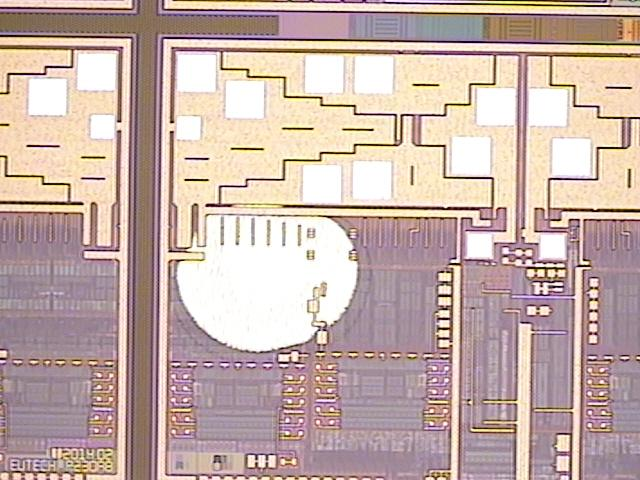BLOCK ETCH: (168, 195, 376, 366)
